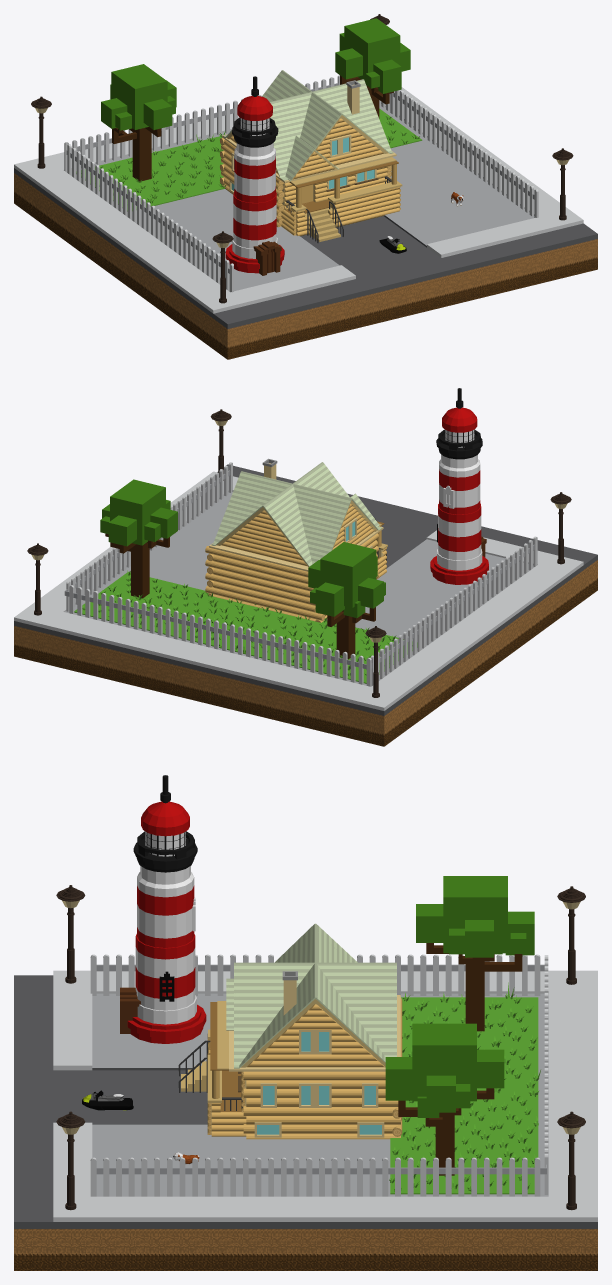
3 views of the same model, one above another, from view 1: azimuth 30°, elevation 25°; view 2: azimuth 150°, elevation 25°; view 3: azimuth 270°, elevation 25° (orthographic). The views are drawn at different scales.
Parts seen in each view (by area): view 1: Cube.004, Cube.1516, OBJRANDOM_LIGHTHOUSE; view 2: Cube.004, Cube.1516, OBJRANDOM_LIGHTHOUSE; view 3: Cube.004, Cube.1516, OBJRANDOM_LIGHTHOUSE, VEHICLES_WATERBIKE.
Boxes of the visible parts, x1,y1,x2,y2 form: Cube.004: (14, 14, 597, 359); Cube.1516: (220, 70, 402, 243); OBJRANDOM_LIGHTHOUSE: (225, 76, 284, 275); Cube.004: (14, 409, 597, 746); Cube.1516: (205, 458, 387, 622); OBJRANDOM_LIGHTHOUSE: (430, 388, 488, 584); Cube.004: (14, 876, 597, 1270); Cube.1516: (178, 923, 402, 1139); OBJRANDOM_LIGHTHOUSE: (120, 775, 206, 1043); VEHICLES_WATERBIKE: (82, 1090, 133, 1110).
Bounding box in the file's own units: 4000 × 2369 × 4000.
43 materials, 4 textured.
